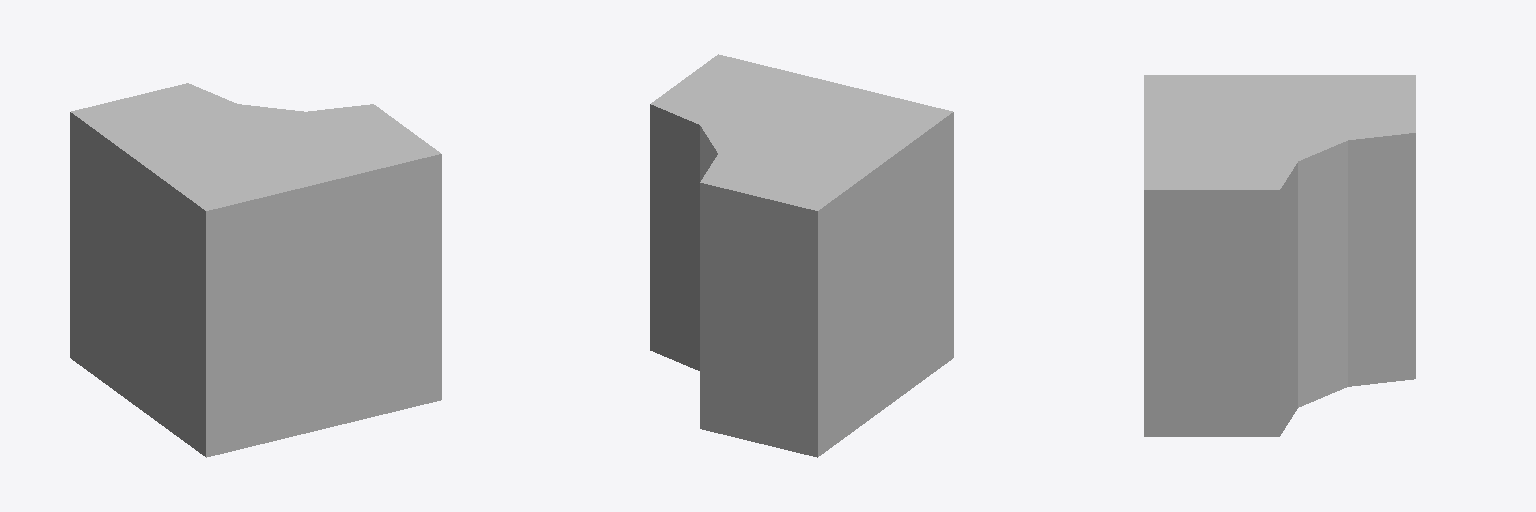
The model's file is Spacestation_Structure_Fuselage_Curved_Inner_Mid.obj.
The picture shows the model from 3 angles: view 1: azimuth 30°, elevation 25°; view 2: azimuth 150°, elevation 25°; view 3: azimuth 270°, elevation 25°; orthographic projection.
Visible parts, largest first — view 1: object1; view 2: object1; view 3: object1.
Part boxes in pixels (x1,y1,x2,y2): object1: (70, 83, 441, 457); object1: (650, 54, 953, 457); object1: (1144, 75, 1415, 436).
Bounding box in the file's own units: 1 × 1 × 1.